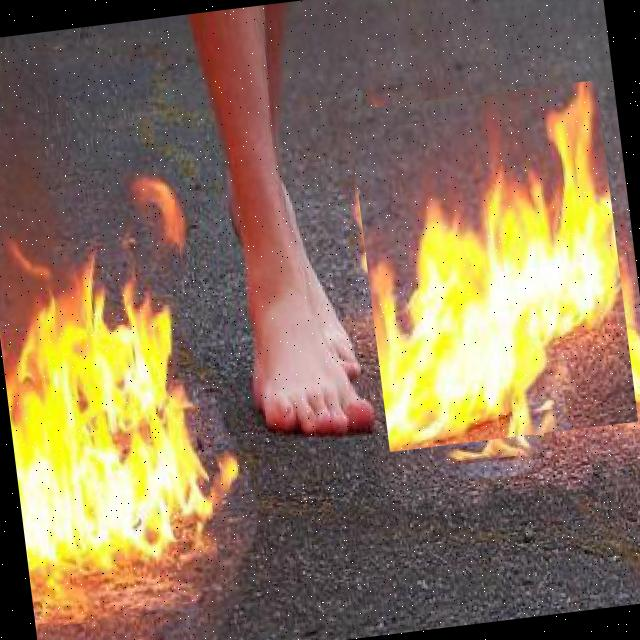fire: (348, 80, 638, 452), (0, 199, 224, 628)
